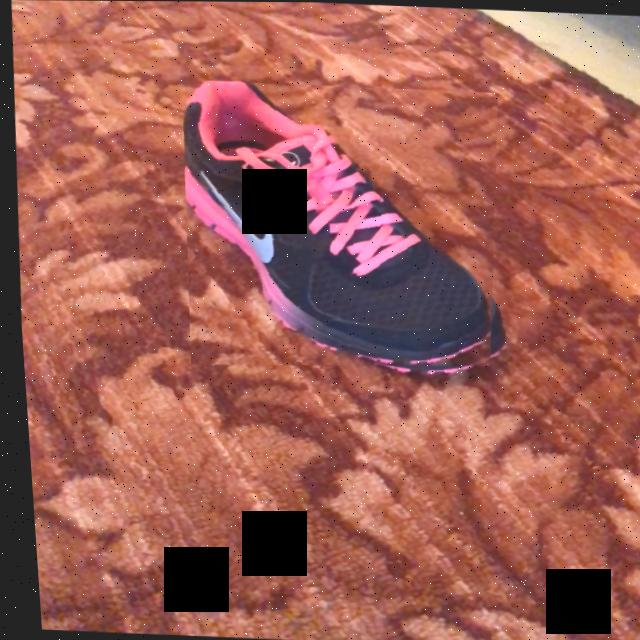shoe: (181, 80, 490, 367)
